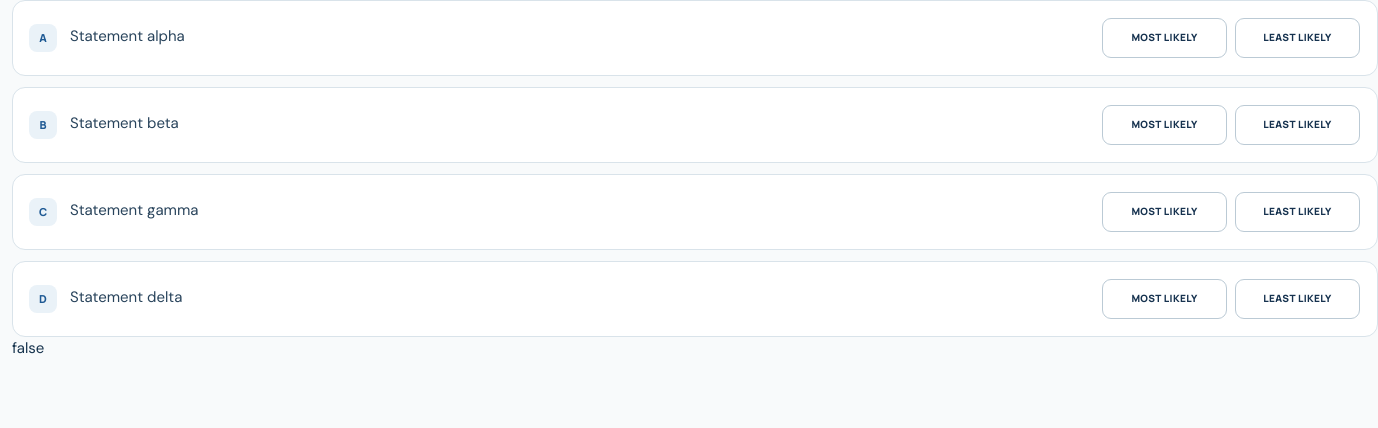
response components › renders four SJT actions and prevents duplicate likely choices
Expected: the text "Statement alpha" is shown 4 times, [70,26,185,48]; [70,113,179,135]; [70,200,198,222]; [70,287,182,309]
Click the button with aria-label "Most likely: Statement delta".
click(1164, 299)  # box [1102,279,1227,319]
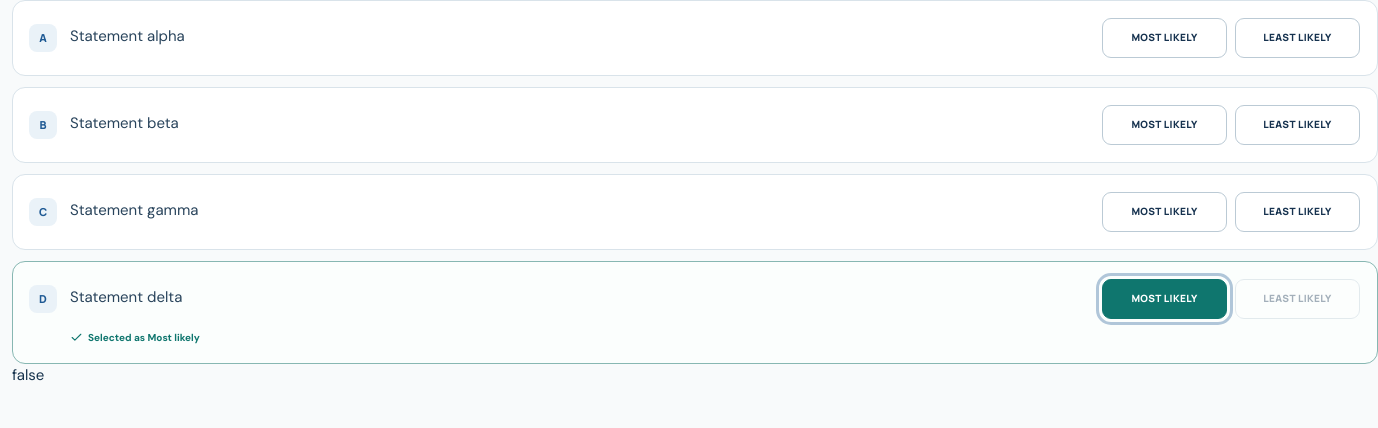
Expected: the button with aria-label "Least likely: Statement delta" is disabled, [1235,279,1360,319]
Click the button with aria-label "Least likely: Statement beta".
click(1298, 125)  # box [1235,105,1360,145]
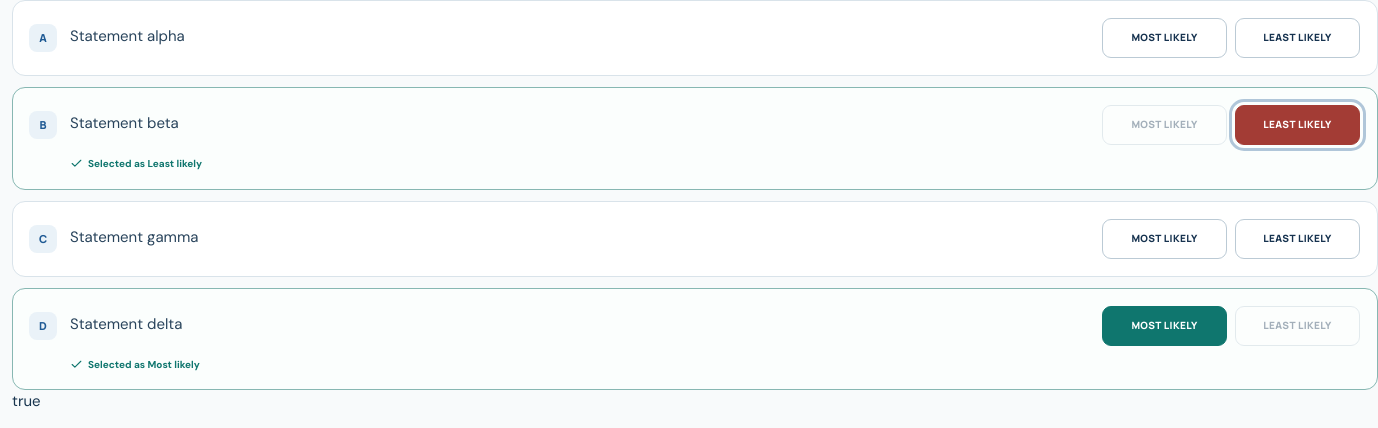
Expected: the text with test id "valid" reads "true", [12,391,40,411]
